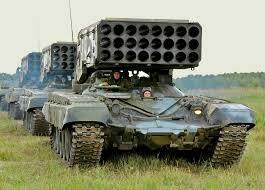rszo: (49, 16, 260, 172), (42, 38, 76, 150), (20, 48, 50, 148)
